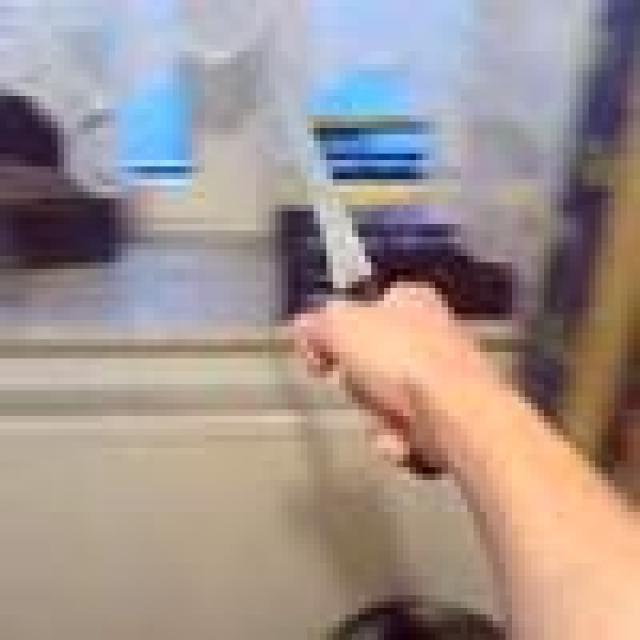faca: (224, 19, 493, 487)
